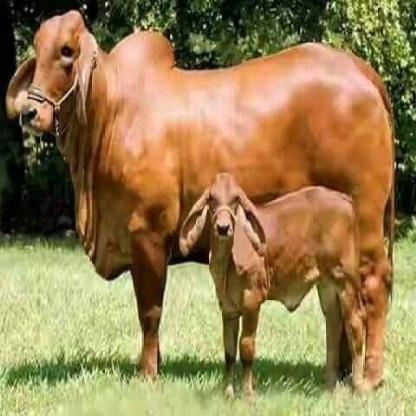cow: (18, 16, 390, 390), (205, 173, 366, 396)
